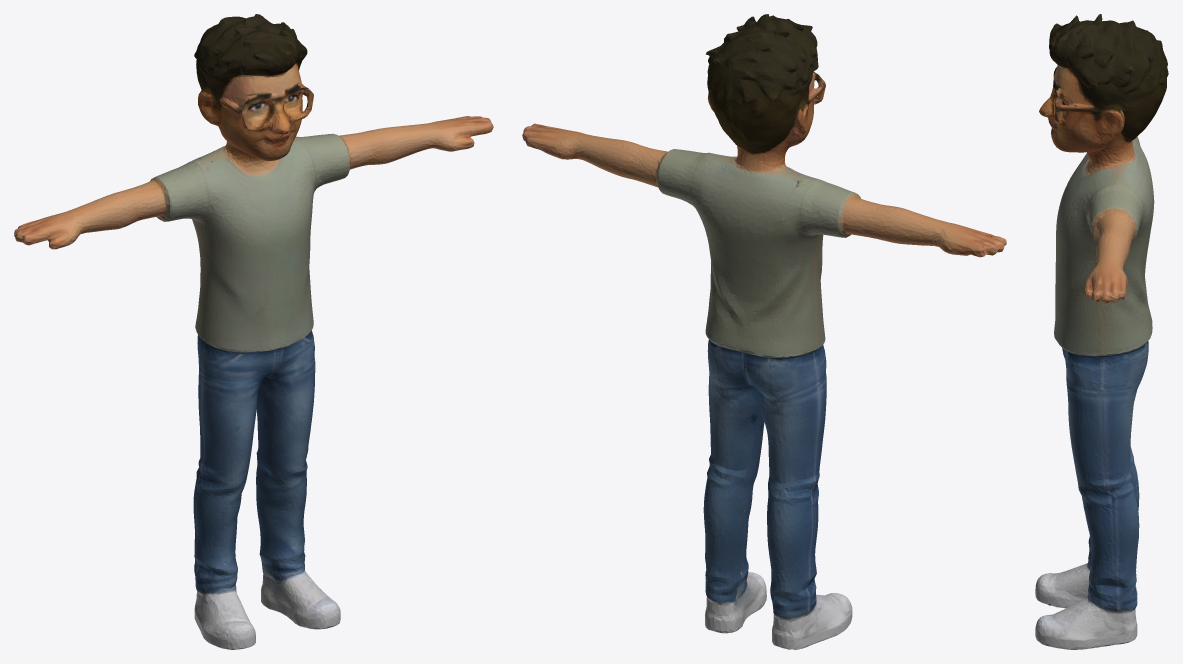
File: textured_pbr.glb
3 renders of one model, left to right at view 1: azimuth 30°, elevation 25°; view 2: azimuth 150°, elevation 25°; view 3: azimuth 270°, elevation 25°, orthographic.
Visible parts, largest first — view 1: textured; view 2: textured; view 3: textured.
Boxes of the visible parts, x1=… form: textured: x1=14, y1=14, x2=493, y2=649; textured: x1=522, y1=14, x2=1006, y2=649; textured: x1=1035, y1=14, x2=1168, y2=649.
Bounding box in the file's own units: 1.66 × 2 × 0.4039.
Materials: 1 (1 with a texture image).
